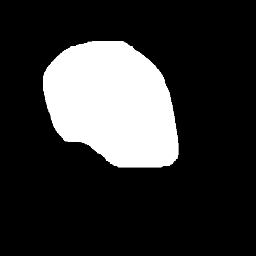mass: (46, 40, 178, 166)
